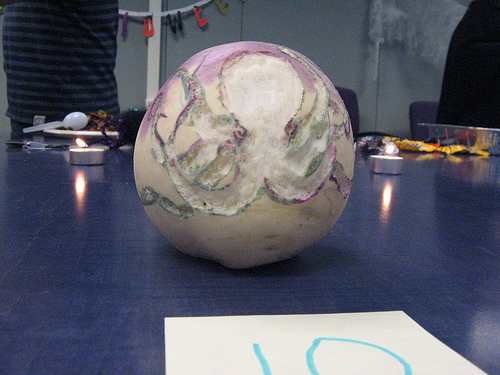turnip: (132, 36, 357, 270)
